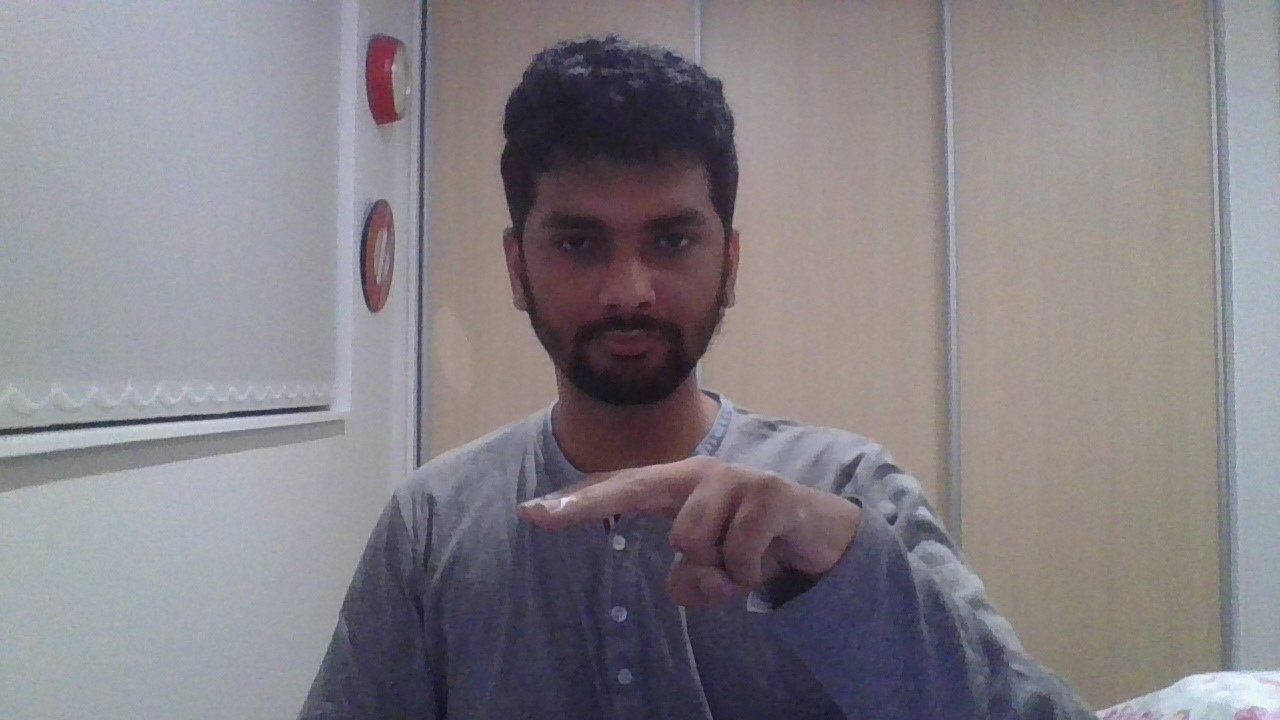look_around: (518, 456, 857, 606)
